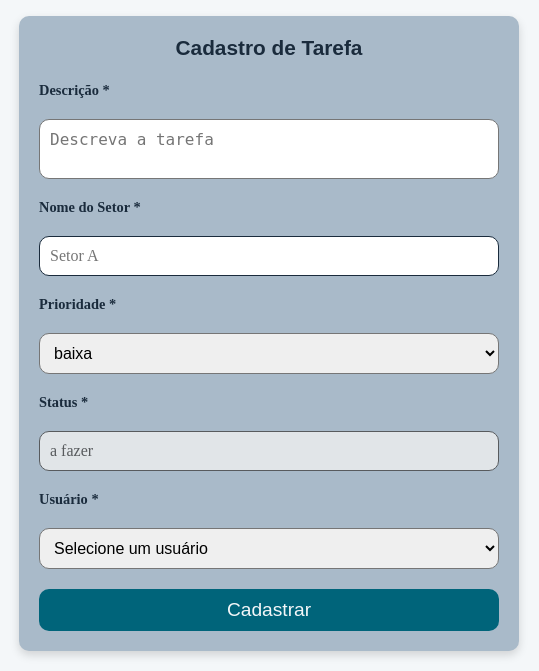
Test case: Cadastro de Tarefas › não permite números no campo Nome do Setor
Type "TI123" into the field labelled "Nome do Setor *".
click(269, 256); type("TI123")  # box [39,236,499,276]
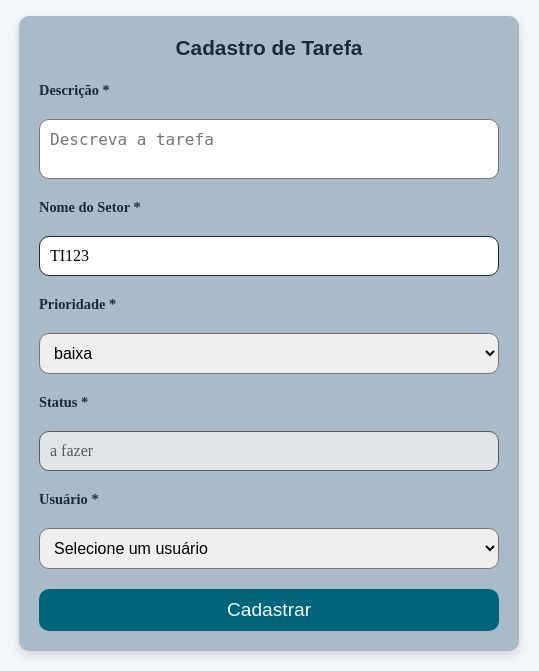
Click the button "Cadastrar".
click(269, 610)  # box [39,589,499,631]
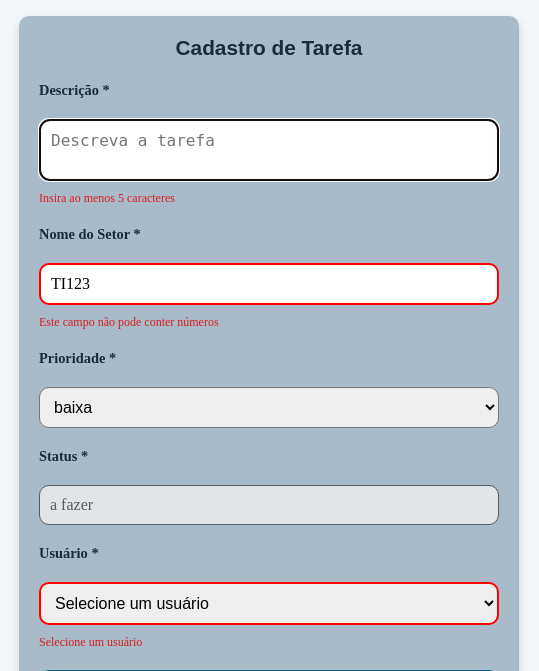
Now the text "Este campo não pode conter números" is shown, box [39,315,219,329]
